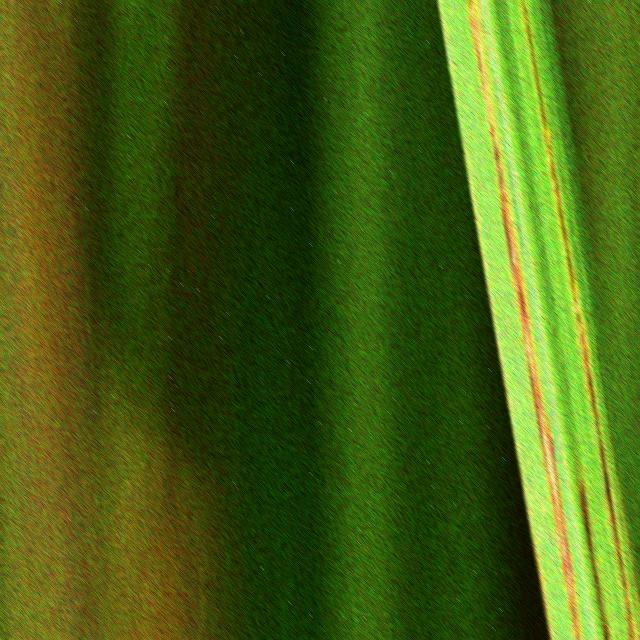BLS: (519, 0, 636, 640), (466, 0, 582, 640), (477, 0, 526, 258), (578, 472, 609, 640), (495, 0, 497, 2)
